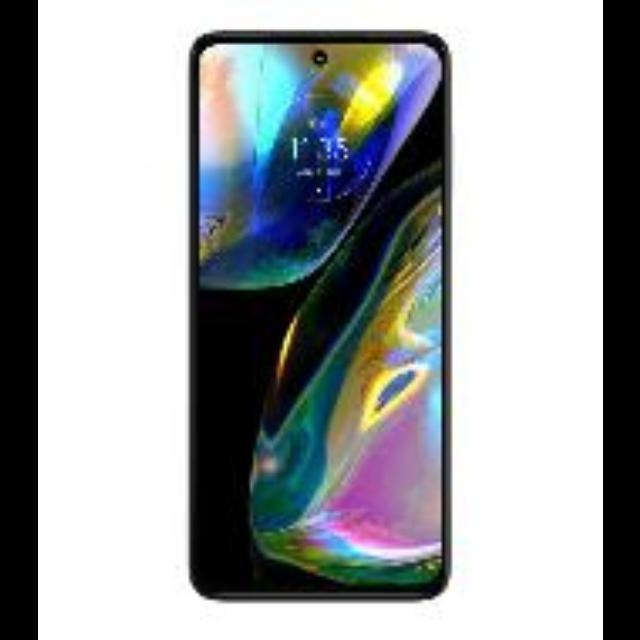PhoneUse: (184, 32, 450, 602)
